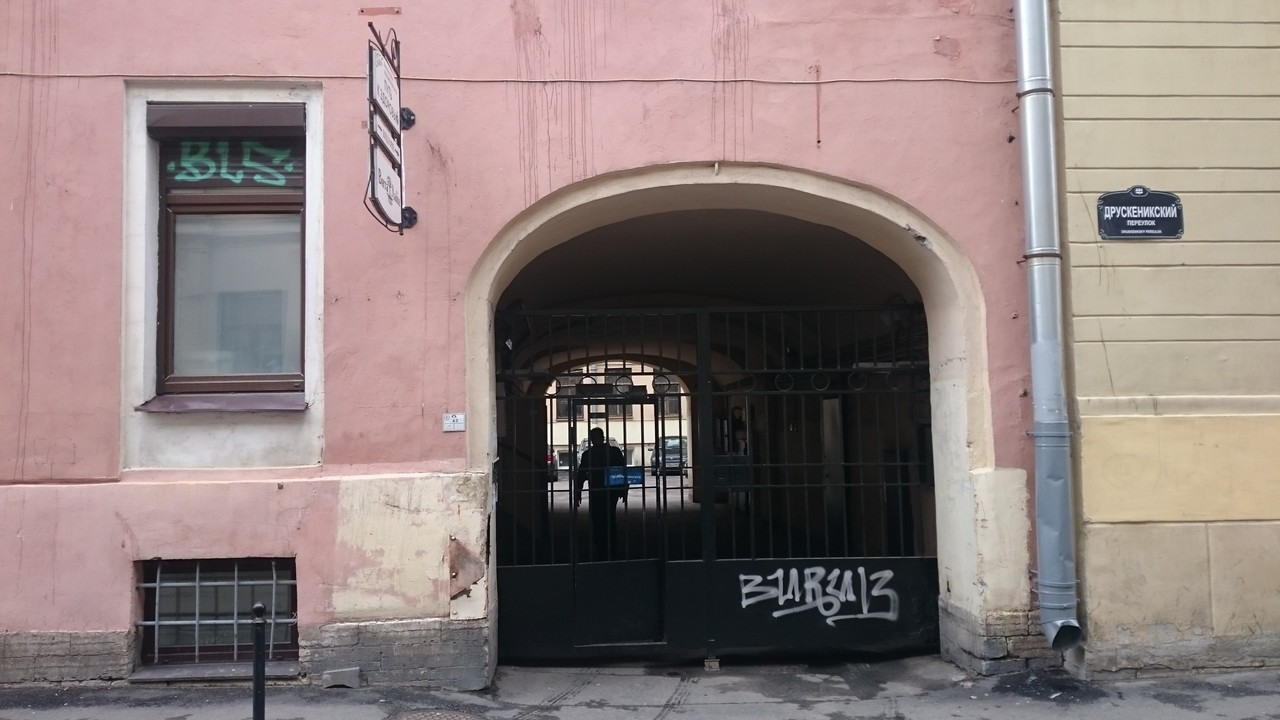arch: (486, 186, 961, 678)
cantilever: (361, 18, 426, 234)
window: (155, 192, 303, 395)
